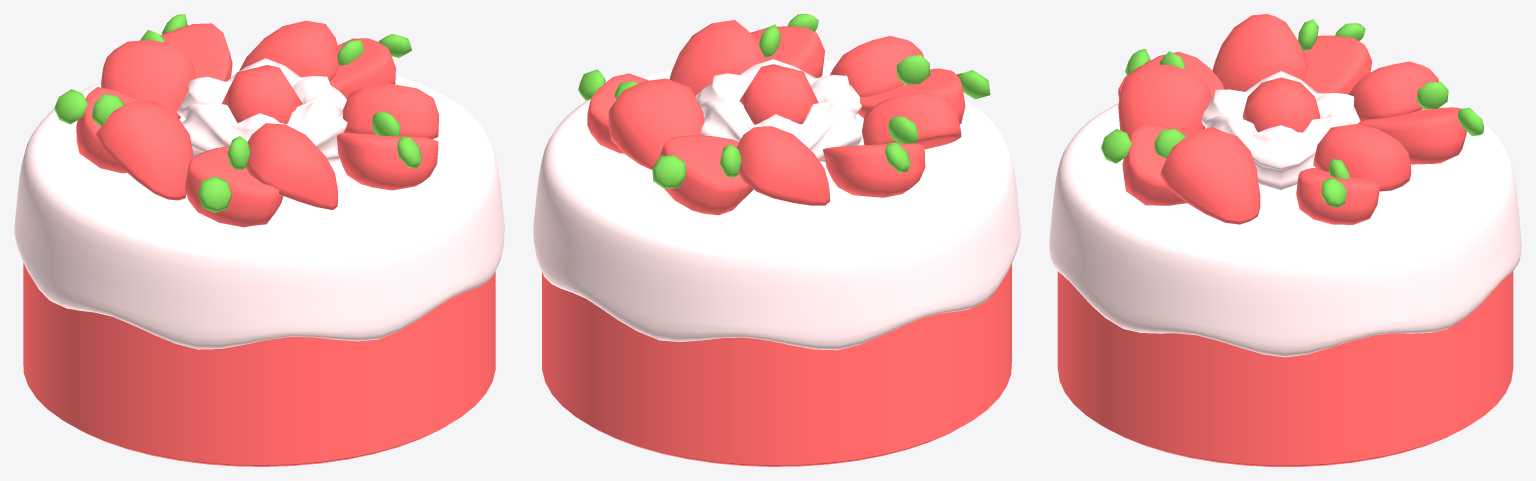
Rendered from Cake.glb.
The picture shows the model from 3 angles, left to right: view 1: azimuth 30°, elevation 25°; view 2: azimuth 150°, elevation 25°; view 3: azimuth 270°, elevation 25°; orthographic projection. The views are drawn at different scales.
Visible parts, largest first — view 1: Cylinder 36, Cylinder 35, Cube 40 (×10), Torus 2, Cube 41 (×7), Sphere 3; view 2: Cylinder 36, Cylinder 35, Cube 40 (×10), Torus 2, Cube 41 (×8), Sphere 3; view 3: Cylinder 36, Cylinder 35, Cube 40 (×10), Torus 2, Cube 41 (×6), Sphere 3.
Boxes of the visible parts, x1,y1,x2,y2 form: Cylinder 36: [14, 55, 504, 349]; Cylinder 35: [23, 263, 495, 466]; Cube 40 (×10): [76, 20, 438, 227]; Torus 2: [176, 58, 347, 162]; Cube 41 (×7): [54, 34, 421, 212]; Sphere 3: [222, 65, 302, 123]; Cylinder 36: [533, 59, 1020, 350]; Cylinder 35: [542, 263, 1011, 466]; Cube 40 (×10): [587, 20, 965, 215]; Torus 2: [696, 59, 862, 162]; Cube 41 (×8): [578, 24, 990, 188]; Sphere 3: [739, 64, 818, 124]; Cylinder 36: [1049, 101, 1521, 357]; Cylinder 35: [1057, 271, 1513, 466]; Cube 40 (×10): [1118, 14, 1466, 224]; Torus 2: [1201, 71, 1360, 189]; Cube 41 (×6): [1101, 19, 1484, 207]; Sphere 3: [1242, 77, 1319, 132].
Size of the model in its own units: 0.4599 by 0.3147 by 0.4599.
